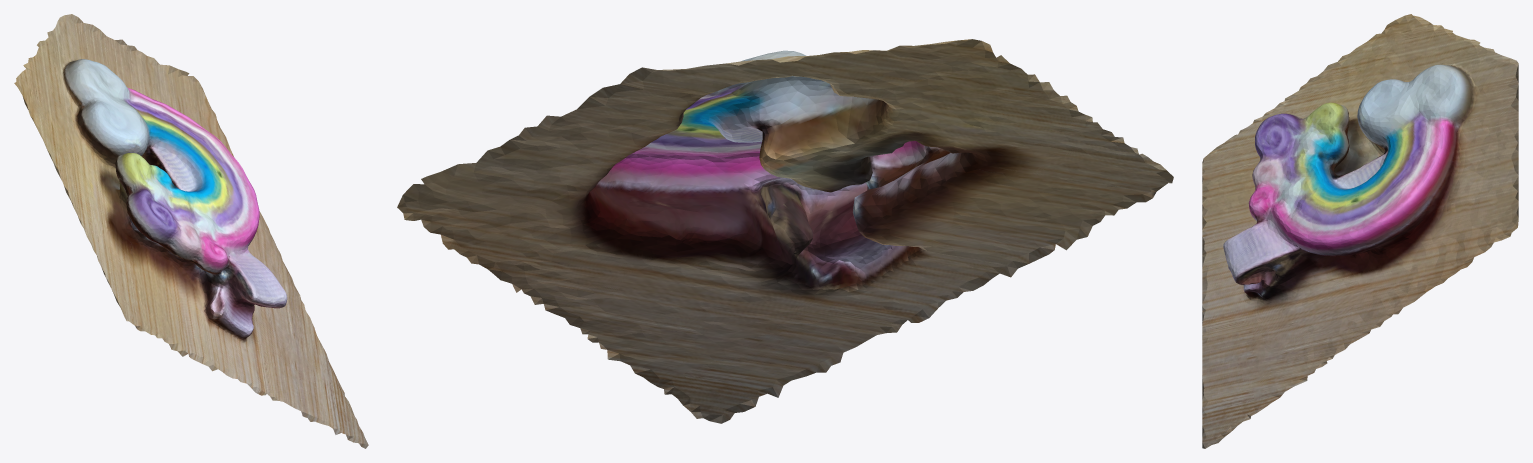
Rendered from Rainbow-Hair-Clip.obj.
3 renders of one model, left to right at view 1: azimuth 30°, elevation 25°; view 2: azimuth 150°, elevation 25°; view 3: azimuth 270°, elevation 25°, orthographic. The views are drawn at different scales.
Size of the model in its own units: 0.4938 by 0.6602 by 0.5855.
Materials: 1 (1 with a texture image).
